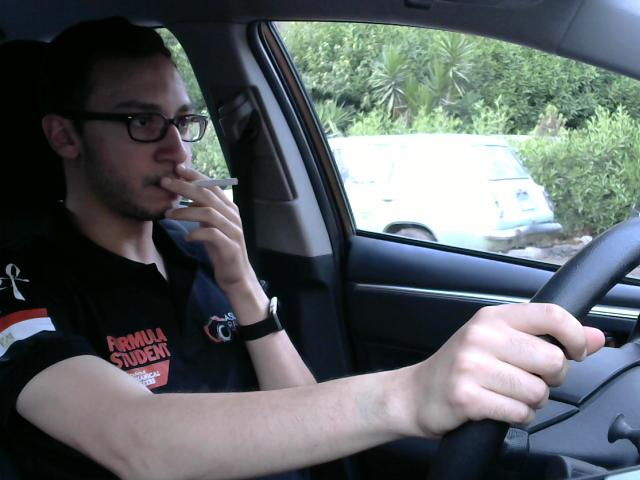Smoking: (159, 164, 248, 199)
